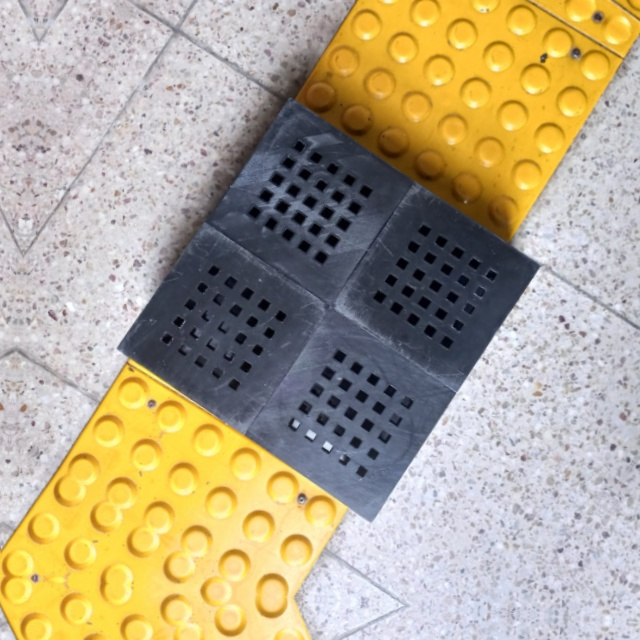pallet: (108, 94, 547, 537)
